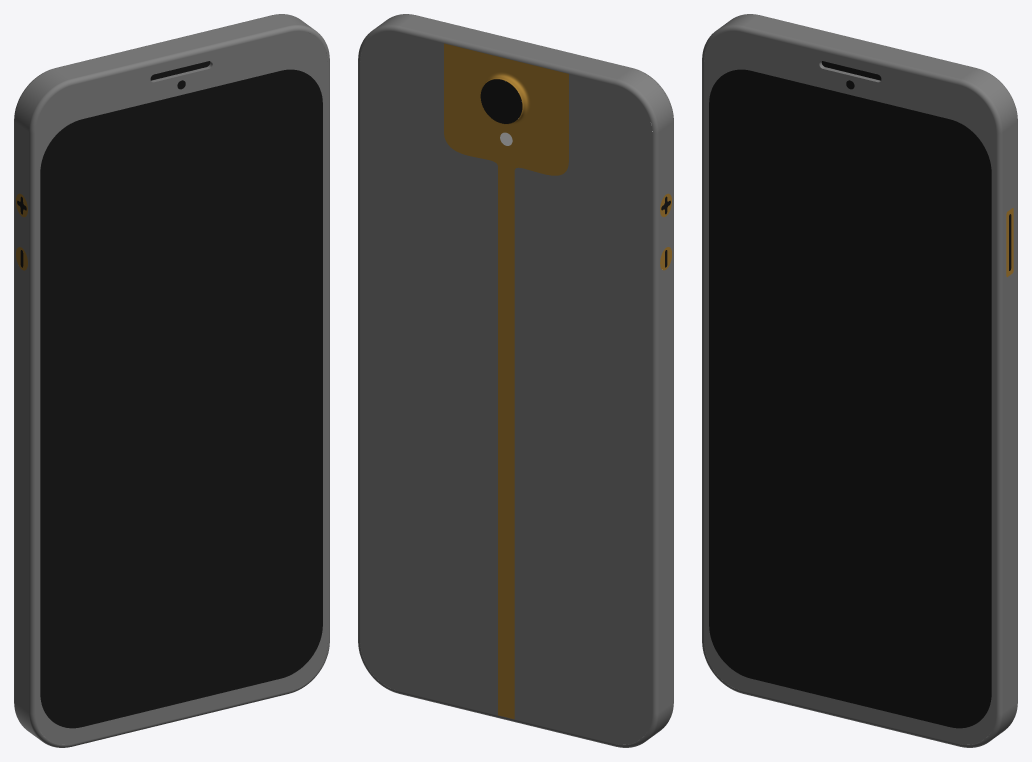
The model's file is smartphone.glb.
3 views of the same model, side by side, from view 1: azimuth 30°, elevation 25°; view 2: azimuth 150°, elevation 25°; view 3: azimuth 330°, elevation 25° (orthographic).
Visible parts, largest first — view 1: screen(0D59F3AF-29A3-4F46-86EA-D03402C31E39), body(D7781557-8296-4174-AB6A-727396696CA5), body(27F97F3B-2E93-40DC-B034-02F2A6DBFDA7), body(FA839407-396D-42F5-AF17-D83F1286F79C), body(2557F693-8D11-49C3-8D3A-F354EB9408C5), body(14894083-C264-41DE-8EE0-23F00EBA36D2), body(D09758FA-B7AB-440C-BBE6-C86F743EAFAF), body(05465F1A-FDE6-4798-AF44-283571B3EE4B); view 2: back(5C8BD4D9-07C2-4C3C-A9E5-2746099BB4E4), back(164A8EBB-88D4-4FF8-B9B9-0298DD1059C6), back-color(AEEA12FD-BA51-4026-A395-D5905A3E6BAD), body(FA839407-396D-42F5-AF17-D83F1286F79C), body(27F97F3B-2E93-40DC-B034-02F2A6DBFDA7), cam-post(B8B5167D-76EC-467B-BACD-F0A8AC2DC2F7), body(FC6DC0C3-DFFE-42F9-8B5B-9CF6FED23C88), body(2557F693-8D11-49C3-8D3A-F354EB9408C5); view 3: screen(0D59F3AF-29A3-4F46-86EA-D03402C31E39), body(D7781557-8296-4174-AB6A-727396696CA5), body(A4293A5A-0956-49A9-B744-B6A6EC8CF02E), body(FA839407-396D-42F5-AF17-D83F1286F79C), body(14894083-C264-41DE-8EE0-23F00EBA36D2), body(2557F693-8D11-49C3-8D3A-F354EB9408C5), body(D09758FA-B7AB-440C-BBE6-C86F743EAFAF), body(05465F1A-FDE6-4798-AF44-283571B3EE4B).
Part boxes in pixels (x1,y1,x2,y2): screen(0D59F3AF-29A3-4F46-86EA-D03402C31E39): (40, 69, 322, 728); body(D7781557-8296-4174-AB6A-727396696CA5): (35, 31, 327, 744); body(27F97F3B-2E93-40DC-B034-02F2A6DBFDA7): (14, 122, 28, 712); body(FA839407-396D-42F5-AF17-D83F1286F79C): (14, 14, 326, 744); body(2557F693-8D11-49C3-8D3A-F354EB9408C5): (29, 133, 35, 713); body(14894083-C264-41DE-8EE0-23F00EBA36D2): (327, 61, 329, 642); body(D09758FA-B7AB-440C-BBE6-C86F743EAFAF): (71, 26, 289, 84); body(05465F1A-FDE6-4798-AF44-283571B3EE4B): (72, 691, 289, 746); back(5C8BD4D9-07C2-4C3C-A9E5-2746099BB4E4): (514, 74, 652, 744); back(164A8EBB-88D4-4FF8-B9B9-0298DD1059C6): (360, 31, 497, 715); back-color(AEEA12FD-BA51-4026-A395-D5905A3E6BAD): (444, 43, 568, 719); body(FA839407-396D-42F5-AF17-D83F1286F79C): (358, 14, 673, 747); body(27F97F3B-2E93-40DC-B034-02F2A6DBFDA7): (659, 122, 673, 712); cam-post(B8B5167D-76EC-467B-BACD-F0A8AC2DC2F7): (480, 79, 522, 123); body(FC6DC0C3-DFFE-42F9-8B5B-9CF6FED23C88): (480, 71, 531, 124); body(2557F693-8D11-49C3-8D3A-F354EB9408C5): (673, 122, 673, 701); screen(0D59F3AF-29A3-4F46-86EA-D03402C31E39): (709, 69, 991, 728); body(D7781557-8296-4174-AB6A-727396696CA5): (704, 31, 996, 744); body(A4293A5A-0956-49A9-B744-B6A6EC8CF02E): (1003, 122, 1017, 712); body(FA839407-396D-42F5-AF17-D83F1286F79C): (705, 14, 1017, 744); body(14894083-C264-41DE-8EE0-23F00EBA36D2): (996, 133, 1002, 713); body(2557F693-8D11-49C3-8D3A-F354EB9408C5): (702, 61, 704, 642); body(D09758FA-B7AB-440C-BBE6-C86F743EAFAF): (742, 26, 960, 84); body(05465F1A-FDE6-4798-AF44-283571B3EE4B): (742, 691, 959, 746).
Size of the model in its own units: 0.072 by 0.153 by 0.01.
